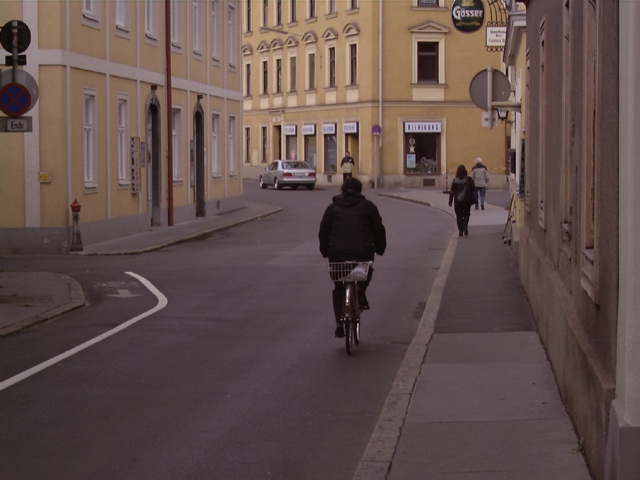person: (322, 171, 388, 342), (448, 160, 478, 235)
